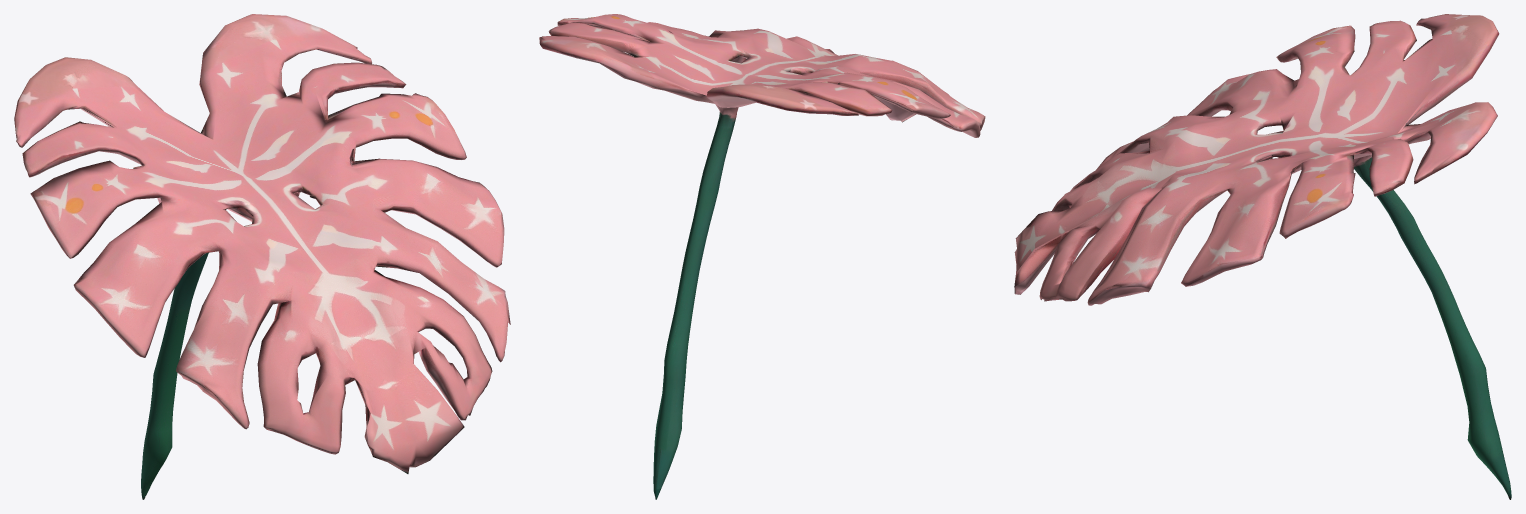
The model's file is mon_rose_pink.glb.
3 views of the same model, side by side, from view 1: azimuth 30°, elevation 25°; view 2: azimuth 150°, elevation 25°; view 3: azimuth 270°, elevation 25° (orthographic). The views are drawn at different scales.
Size of the model in its own units: 1.76 by 1.92 by 2.
Materials: 1 (1 with a texture image).
